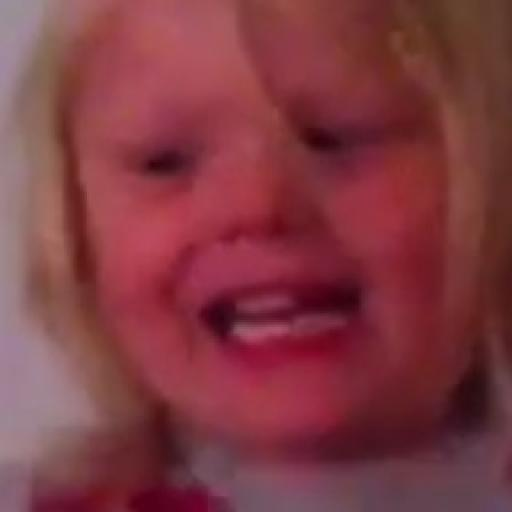Autism: (65, 29, 512, 512)
